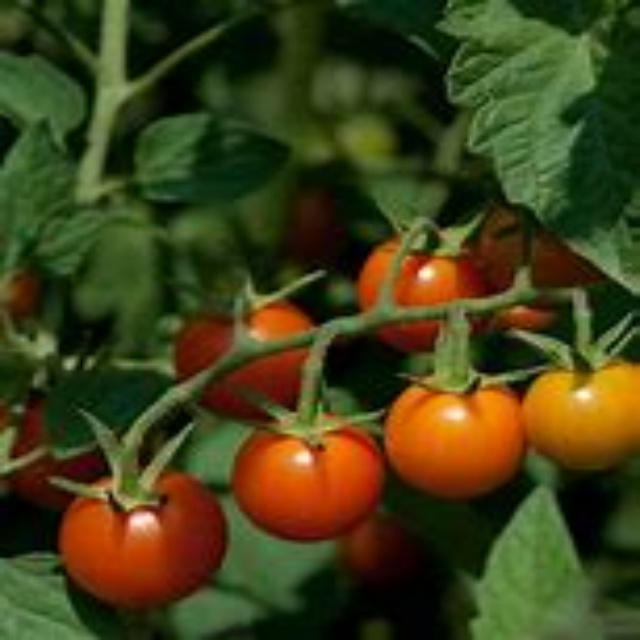tomato: (67, 464, 226, 603), (234, 415, 386, 538), (385, 375, 526, 499), (161, 314, 329, 418), (346, 244, 498, 345), (470, 208, 599, 322), (514, 358, 639, 460)
